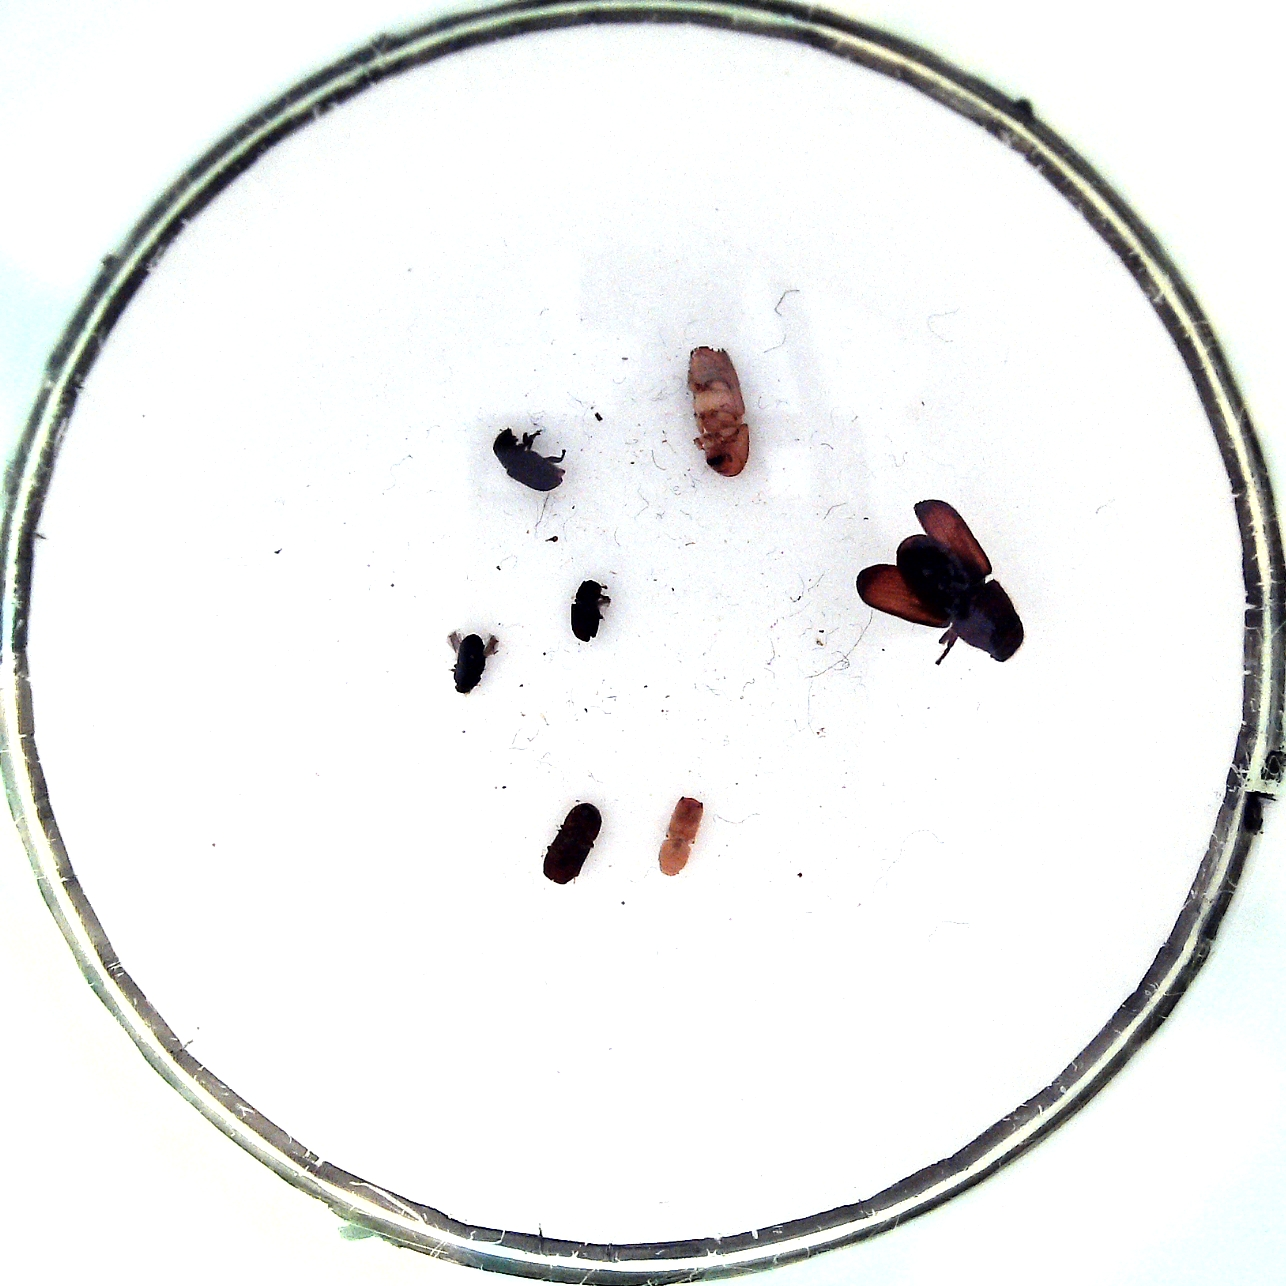Boerner: (687, 344, 751, 476)
Leconte: (897, 536, 1025, 663)
acuminatus: (453, 635, 488, 694)
armandi: (493, 427, 566, 492)
coleoptera: (571, 579, 603, 639)
linnaeus: (543, 802, 602, 884), (658, 795, 702, 877)
